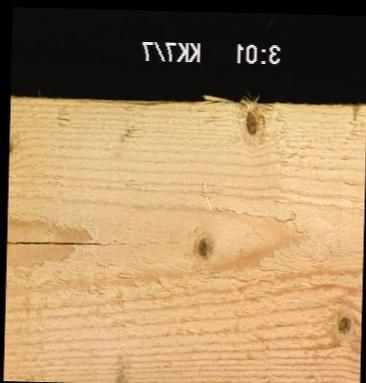dry_knot: (244, 110, 258, 135)
sound_knot: (195, 233, 214, 261), (336, 314, 352, 334)
split: (5, 239, 101, 247)
